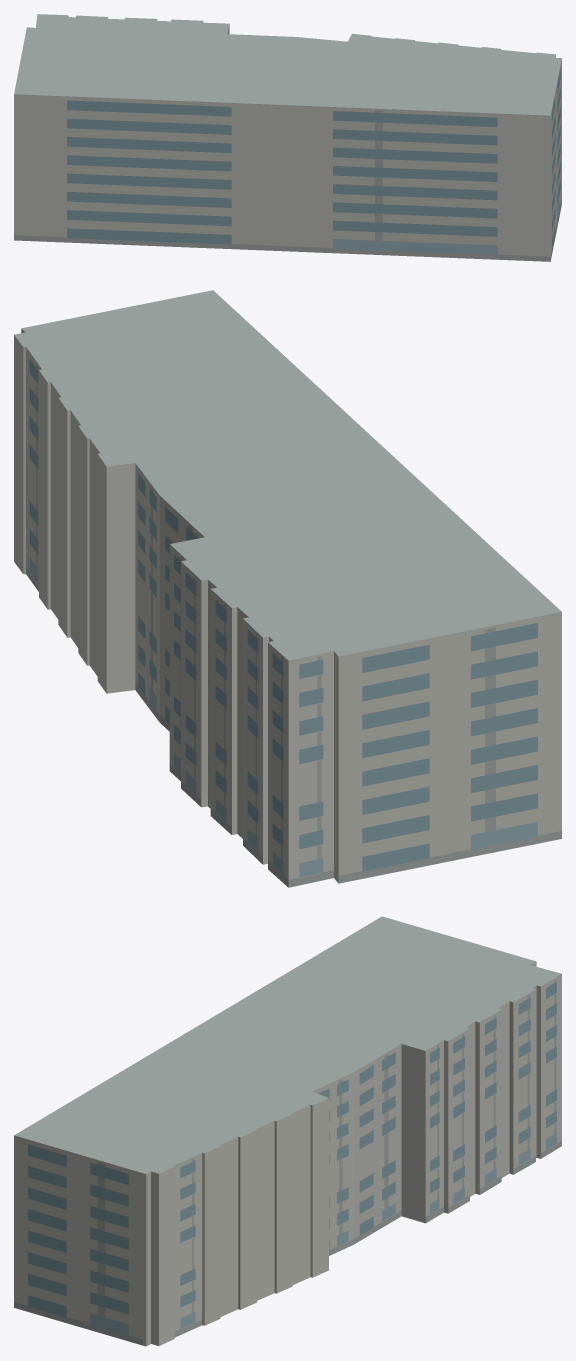
File: survey-upis-32882386.glb
The picture shows the model from 3 angles, top to bottom: view 1: azimuth 30°, elevation 25°; view 2: azimuth 150°, elevation 25°; view 3: azimuth 270°, elevation 25°; orthographic projection. The views are drawn at different scales.
Visible parts, largest first — view 1: survey-upis-32882386.tmp; view 2: survey-upis-32882386.tmp; view 3: survey-upis-32882386.tmp.
Boxes of the visible parts, bbox=[...] form: survey-upis-32882386.tmp: bbox=[14, 14, 561, 261]; survey-upis-32882386.tmp: bbox=[14, 290, 561, 887]; survey-upis-32882386.tmp: bbox=[14, 916, 561, 1346].
Size of the model in its own units: 78.44 by 24.46 by 70.45.
